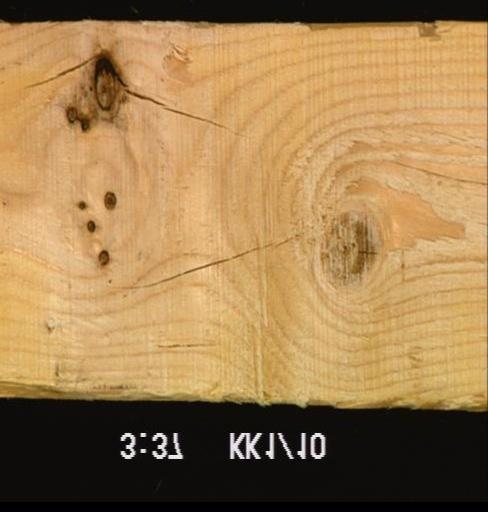dry_knot: (101, 189, 116, 209), (96, 248, 109, 265)
small_knot: (84, 218, 95, 232), (75, 198, 86, 210)
sound_knot: (317, 209, 374, 283)
split: (114, 231, 301, 290), (121, 80, 251, 139), (380, 154, 486, 194), (16, 46, 101, 92), (151, 338, 234, 350)
wave: (0, 369, 180, 398), (300, 21, 447, 47), (165, 20, 252, 38)
